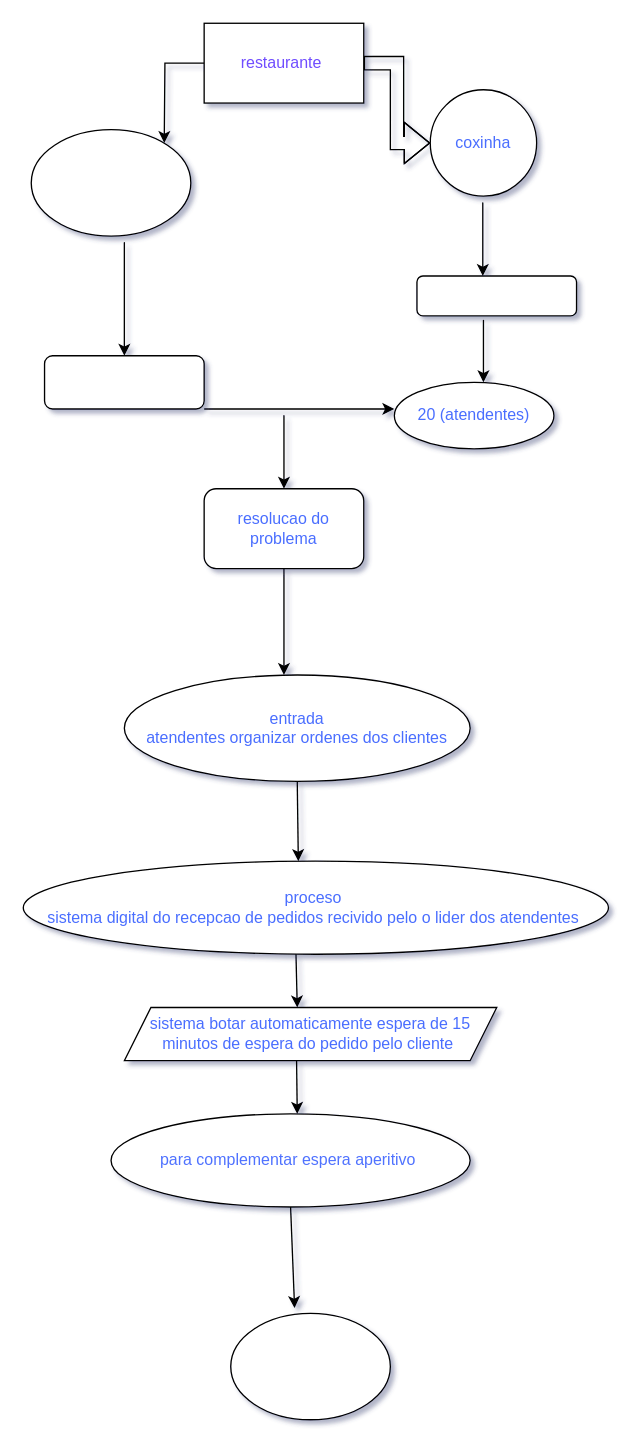
This 640x1451 diagram has some shape labels left out. Each missing label, with the centre of its shape:
clientes: point 123,381
FIN: point 309,1366
funcionarios: point 496,295
operador de caixa: point 110,182
